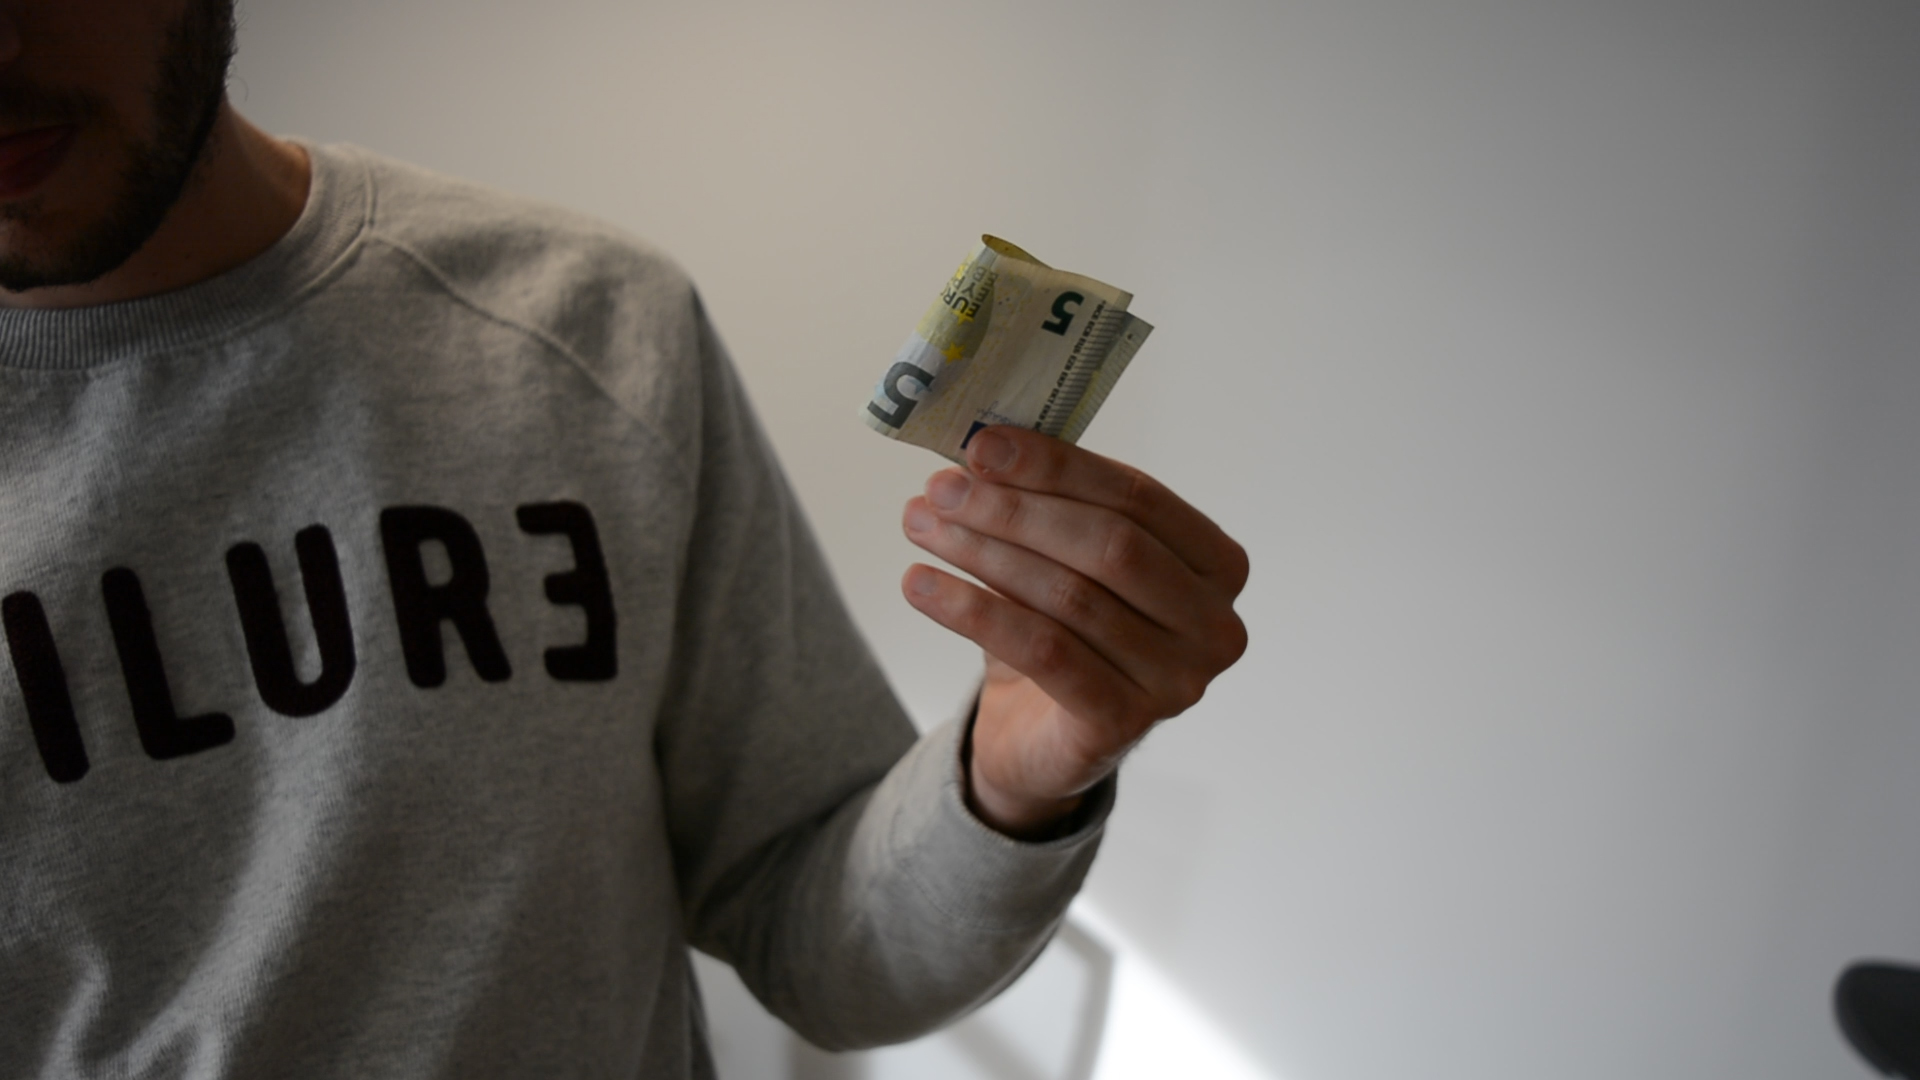billete: (856, 231, 1156, 473)
